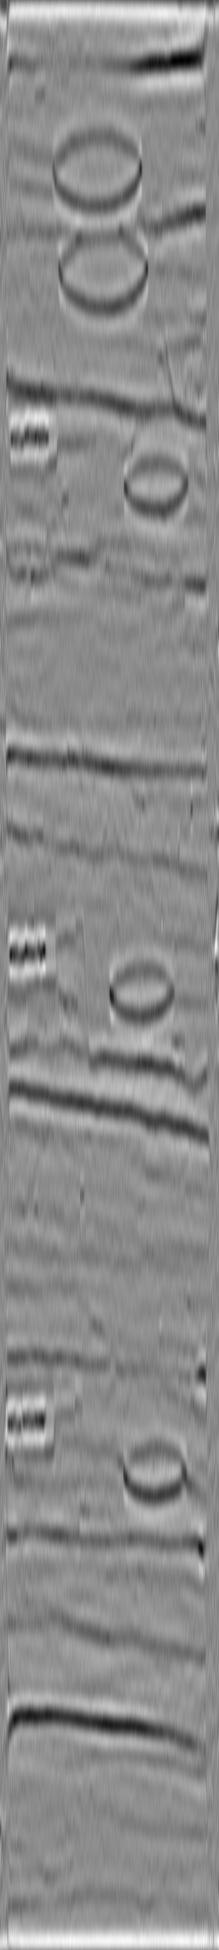hplug: (116, 1431, 197, 1509), (105, 953, 178, 1030), (116, 446, 194, 519)
scal: (46, 116, 148, 218), (52, 223, 156, 316)
vplug: (20, 1394, 92, 1545), (22, 914, 95, 1055), (36, 430, 108, 566)
